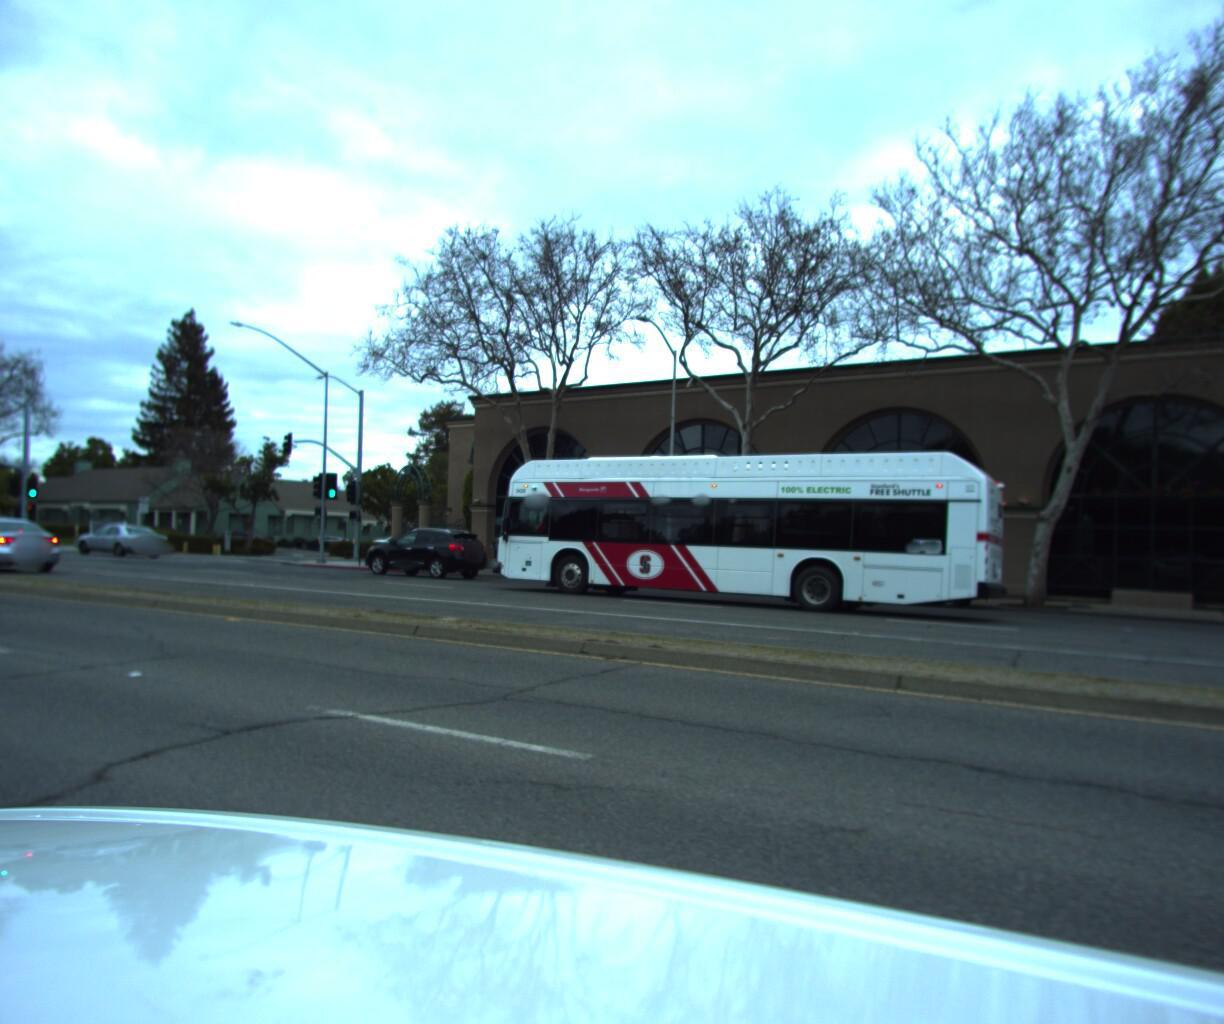bus: (483, 445, 1011, 623)
car: (355, 521, 487, 580), (0, 511, 69, 574), (75, 519, 170, 554), (292, 522, 355, 547)
